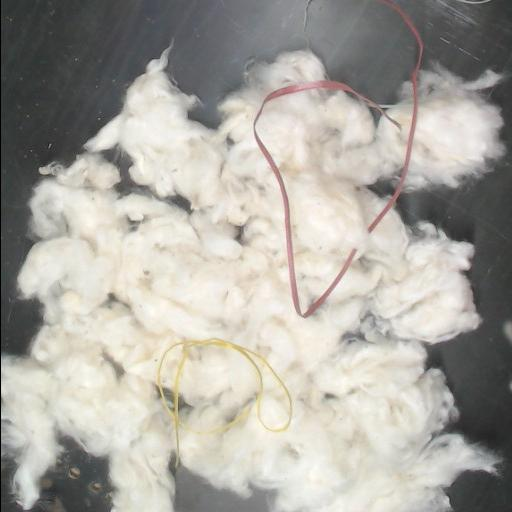conveyor belt: (1, 0, 414, 353), (398, 78, 512, 511), (393, 0, 512, 77), (29, 442, 111, 511), (177, 470, 269, 511), (1, 461, 24, 511)
cotton: (1, 48, 497, 511), (405, 64, 504, 190), (178, 345, 257, 430)
thread: (253, 80, 400, 317), (155, 337, 292, 465), (368, 0, 423, 232)
